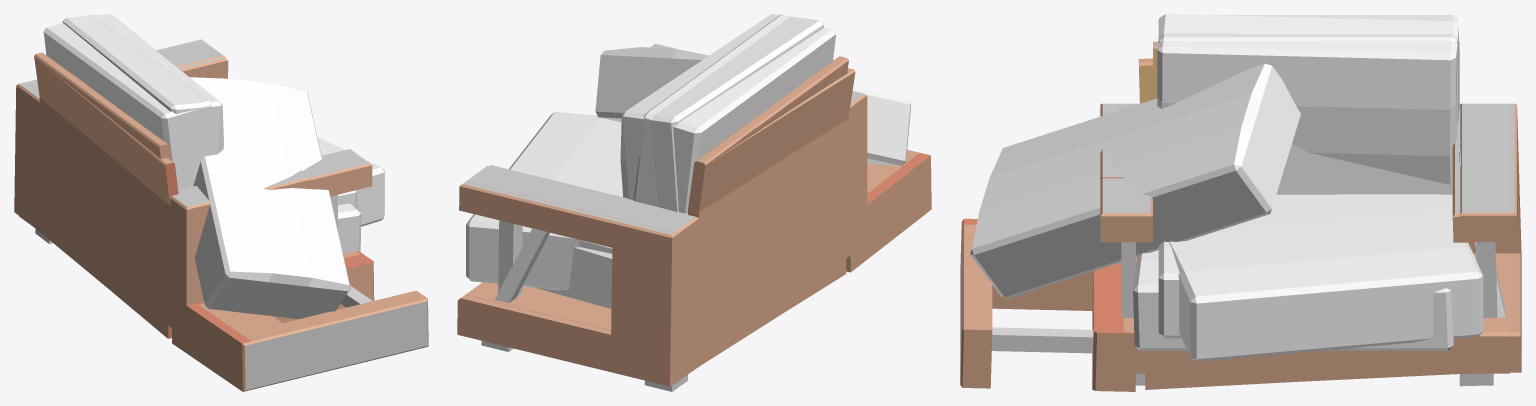
Rendered from Seat1.fbx.
3 renders of one model, left to right at view 1: azimuth 30°, elevation 25°; view 2: azimuth 150°, elevation 25°; view 3: azimuth 270°, elevation 25°, orthographic. The views are drawn at different scales.
Parts seen in each view (by area): view 1: seat1.4, seat1.2, seat1.1, seat1.3; view 2: seat1.4, seat1.2, seat1.1, seat1.3; view 3: seat1.2, seat1.4, seat1.1, seat1.3.
Part boxes in pixels (<box>): seat1.4: <box>14,39,428,391</box>; seat1.2: <box>19,14,384,328</box>; seat1.1: <box>19,14,371,327</box>; seat1.3: <box>19,56,372,338</box>; seat1.4: <box>457,47,931,391</box>; seat1.2: <box>465,14,867,387</box>; seat1.1: <box>483,14,866,391</box>; seat1.3: <box>495,60,853,383</box>; seat1.2: <box>1100,14,1509,384</box>; seat1.4: <box>960,58,1521,391</box>; seat1.1: <box>1100,15,1509,385</box>; seat1.3: <box>1100,104,1509,385</box>.
Bounding box in the file's own units: 192 × 169 × 311.
